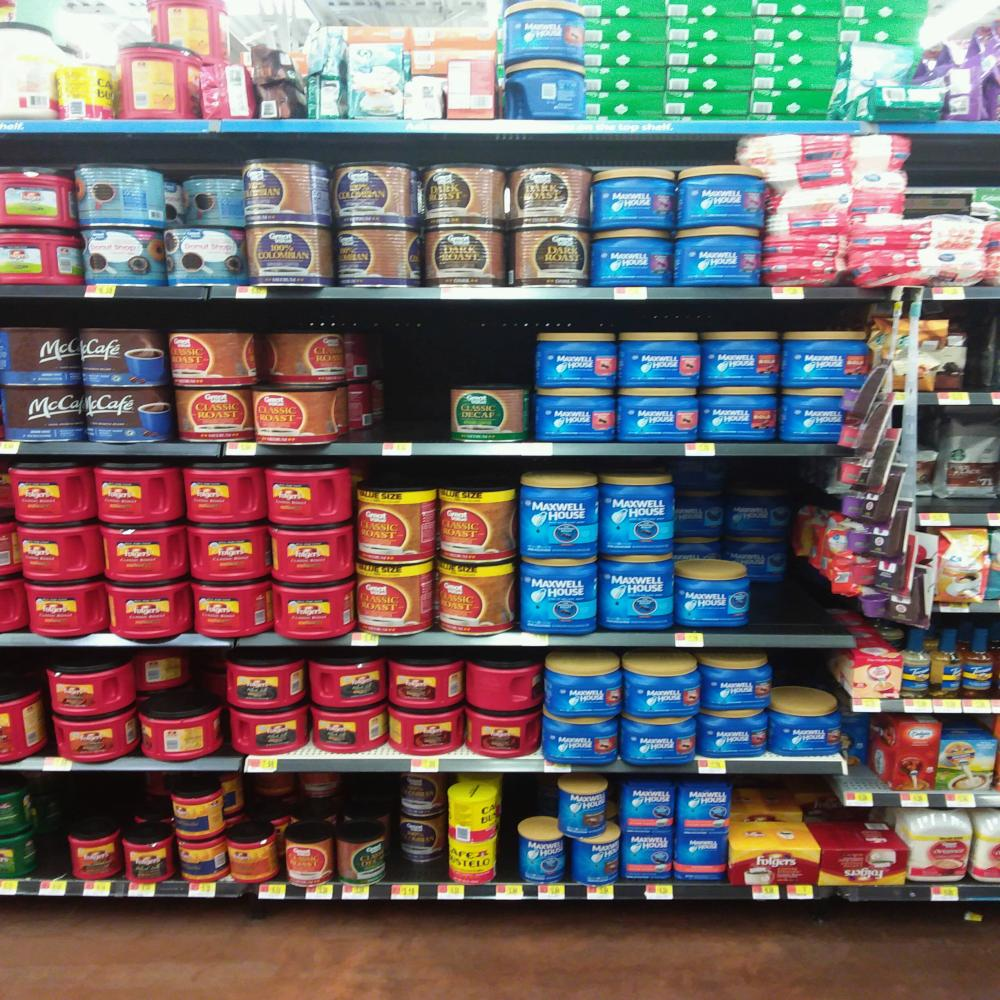shelf: (0, 879, 1000, 902), (0, 755, 846, 776), (0, 284, 1000, 300), (0, 631, 858, 649), (0, 120, 1000, 134), (0, 442, 884, 456), (843, 791, 1000, 809), (851, 698, 1000, 715), (913, 511, 1000, 528), (910, 390, 1000, 405), (921, 599, 1000, 613)
